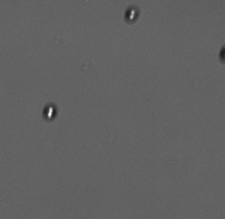Living Cell: (41, 102, 59, 121), (123, 5, 139, 24)
